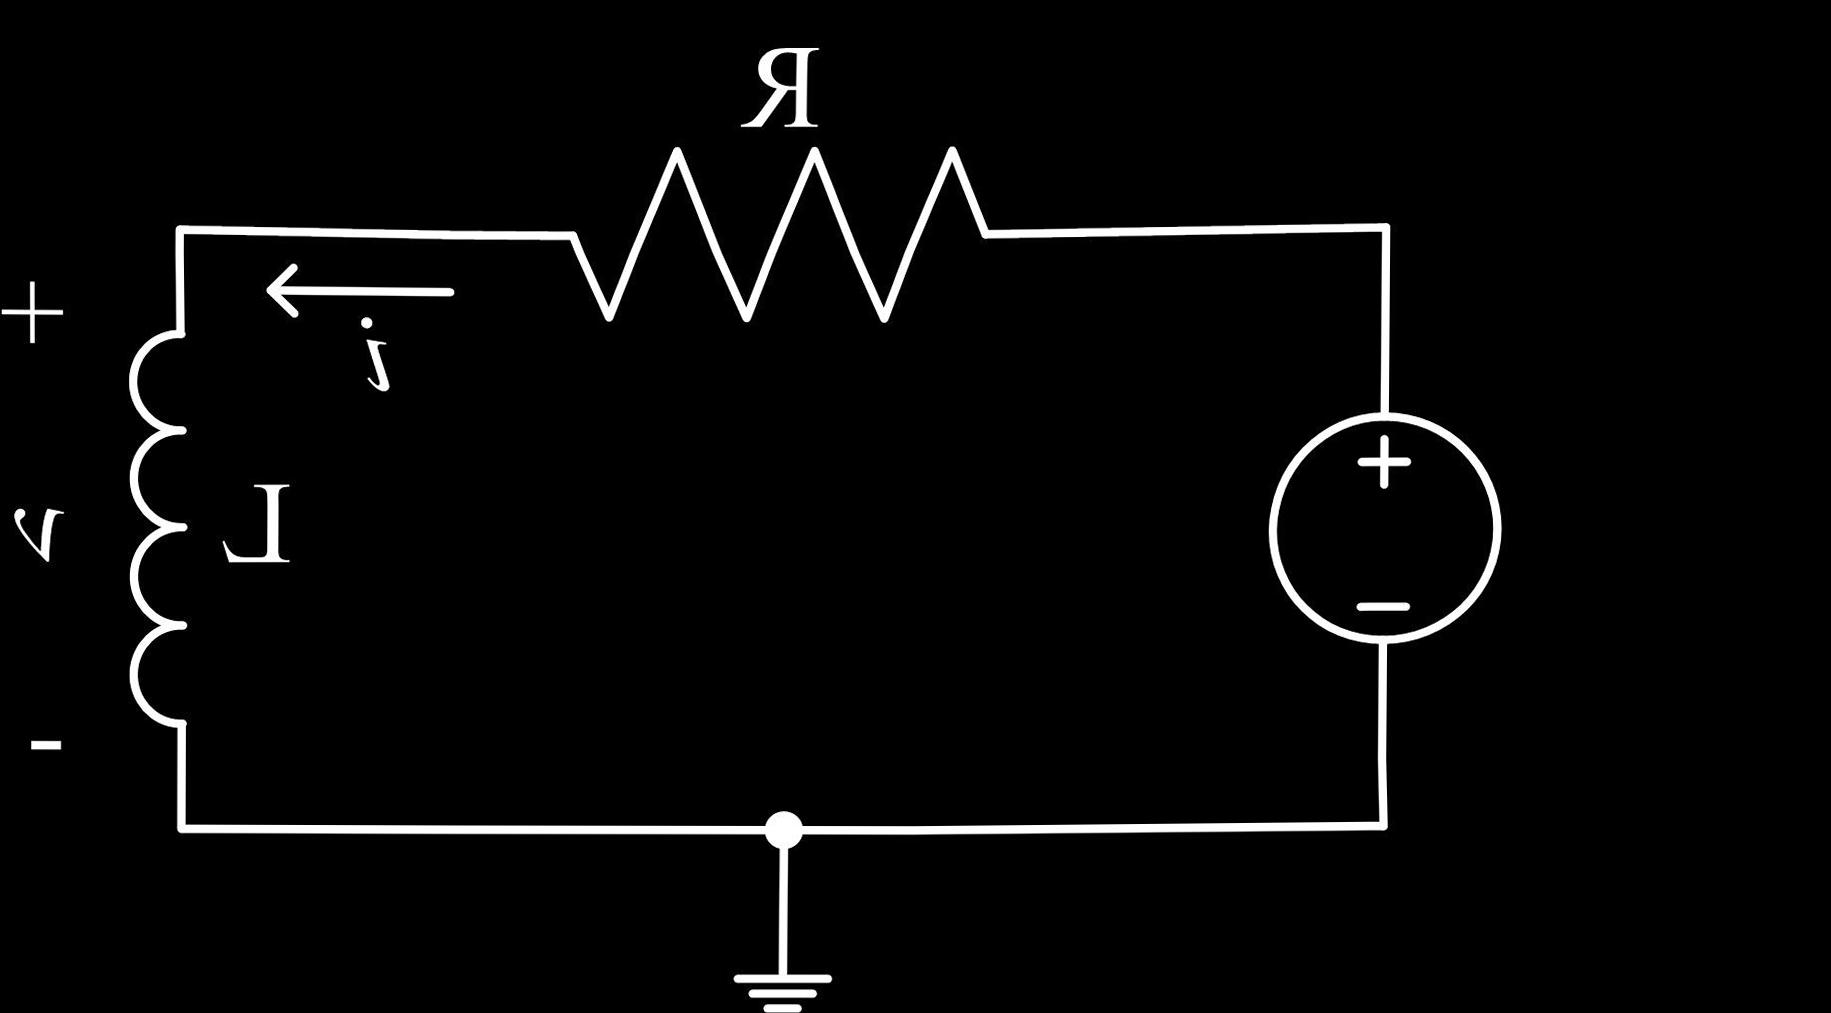Battery: (1199, 371, 1564, 700)
